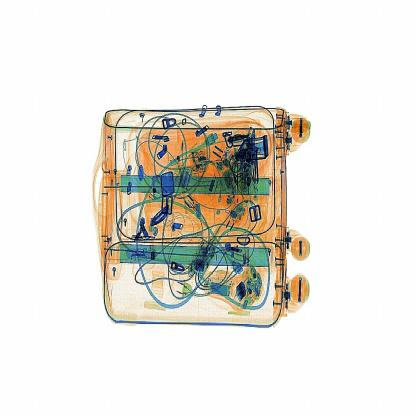knife: (144, 197, 178, 233)
